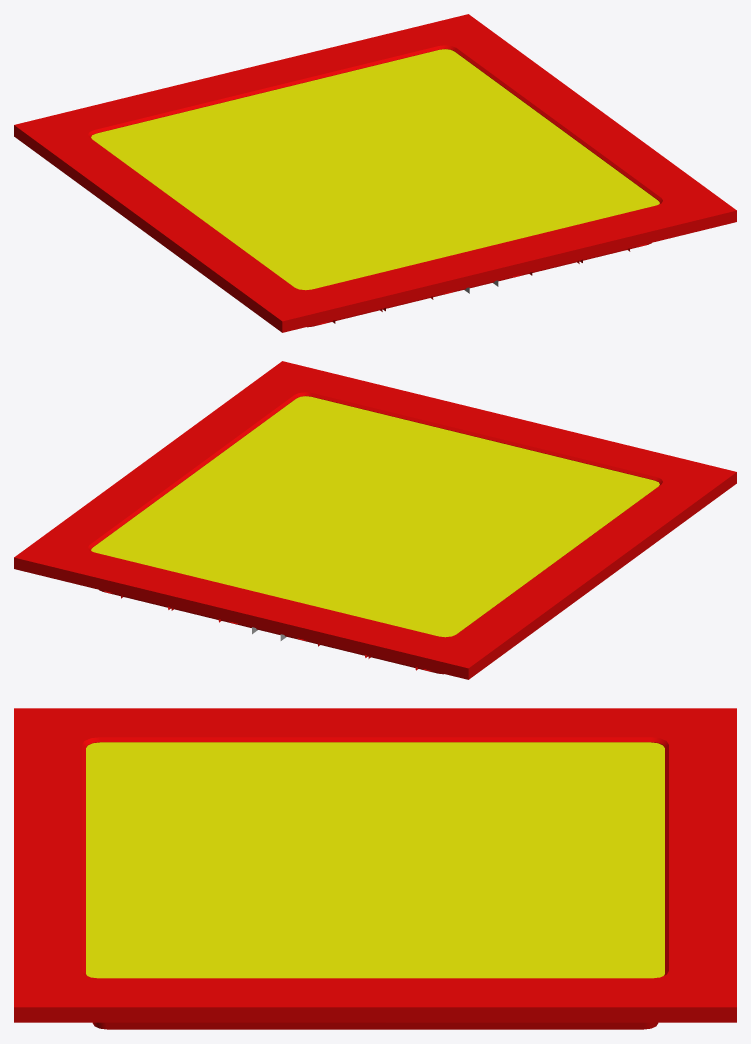
Rendered from Floor_10.fbx.
The picture shows the model from 3 angles, top to bottom: view 1: azimuth 30°, elevation 25°; view 2: azimuth 150°, elevation 25°; view 3: azimuth 270°, elevation 25°; orthographic projection. The views are drawn at different scales.
Visible parts, largest first — view 1: polySurface2609; view 2: polySurface2609; view 3: polySurface2609.
Boxes of the visible parts, <box> form: polySurface2609: <box>14,14,736,332</box>; polySurface2609: <box>14,361,736,679</box>; polySurface2609: <box>14,708,736,1029</box>.
Bounding box in the file's own units: 380 × 34.59 × 388.
